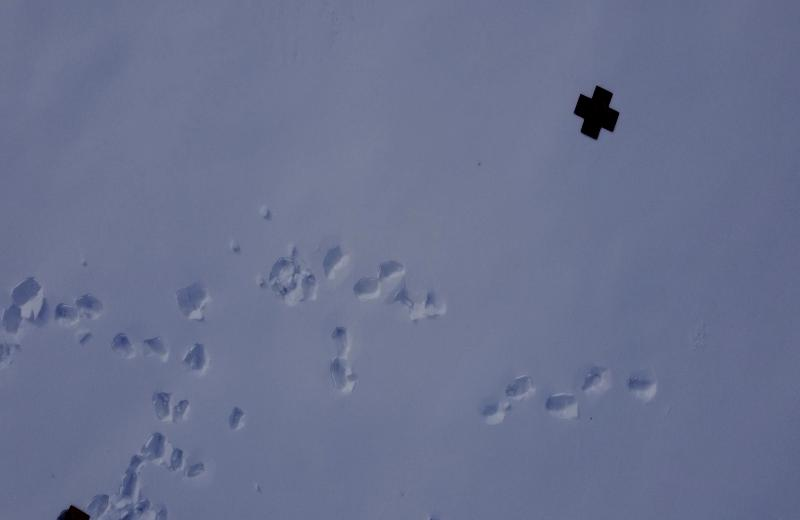Cross: (576, 86, 621, 140)
Rectangle: (61, 501, 92, 520)
